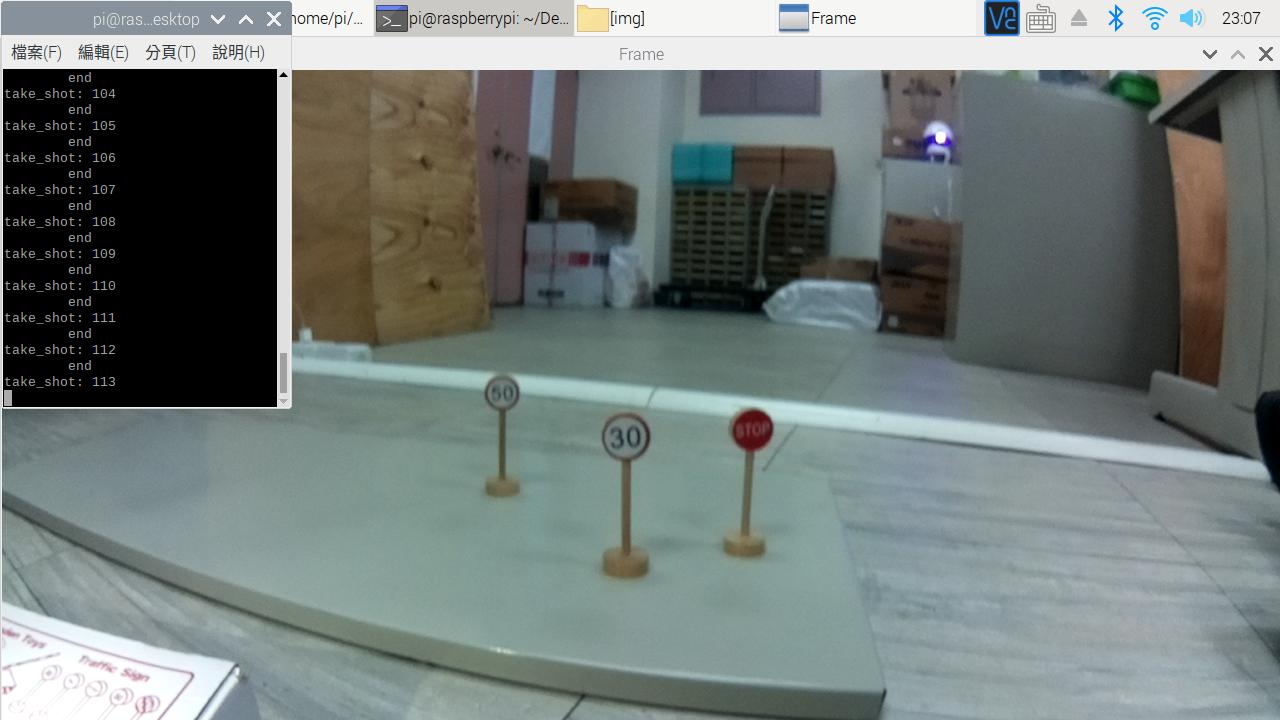Speed30: (598, 409, 660, 466)
Speed50: (479, 369, 531, 414)
Stop: (720, 409, 779, 455)
